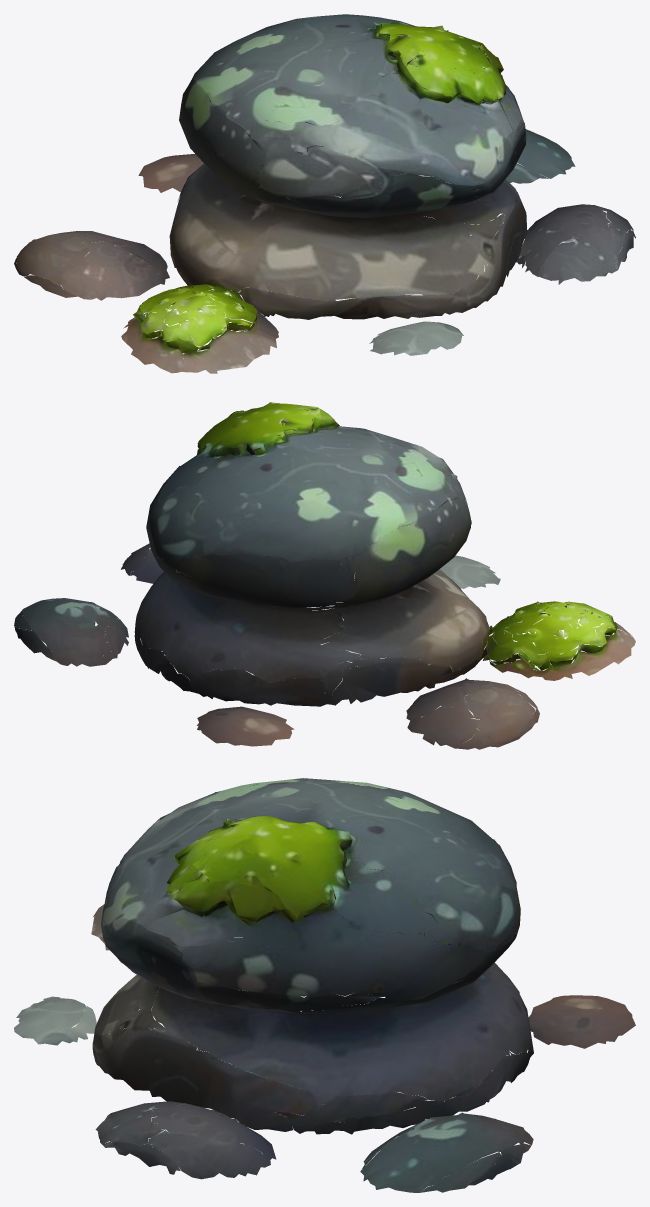
The model's file is rock_flat.glb.
The picture shows the model from 3 angles, top to bottom: view 1: azimuth 30°, elevation 25°; view 2: azimuth 150°, elevation 25°; view 3: azimuth 270°, elevation 25°; orthographic projection. The views are drawn at different scales.
Visible parts, largest first — view 1: rock_flat; view 2: rock_flat; view 3: rock_flat.
Part boxes in pixels (x1,y1,x2,y2): rock_flat: (14,14,635,373); rock_flat: (14,402,635,749); rock_flat: (14,778,635,1192).
Size of the model in its own units: 1.01 by 0.3862 by 0.8724.
Materials: 1 (1 with a texture image).
